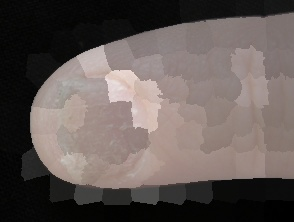Nail_psoriasis: (24, 62, 162, 197)
